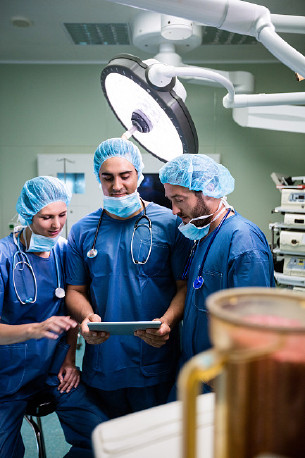face_mask: (99, 155, 136, 209), (166, 182, 199, 231), (34, 197, 65, 239)
